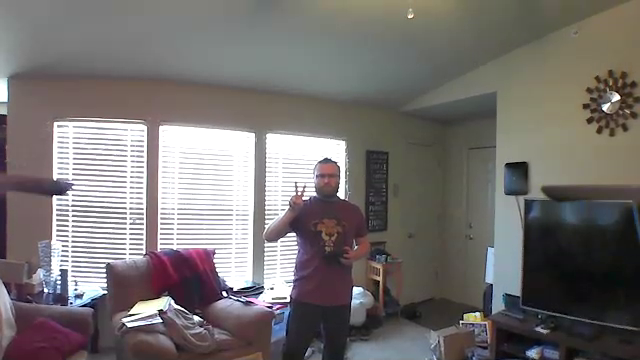peace: (284, 175, 312, 217)
